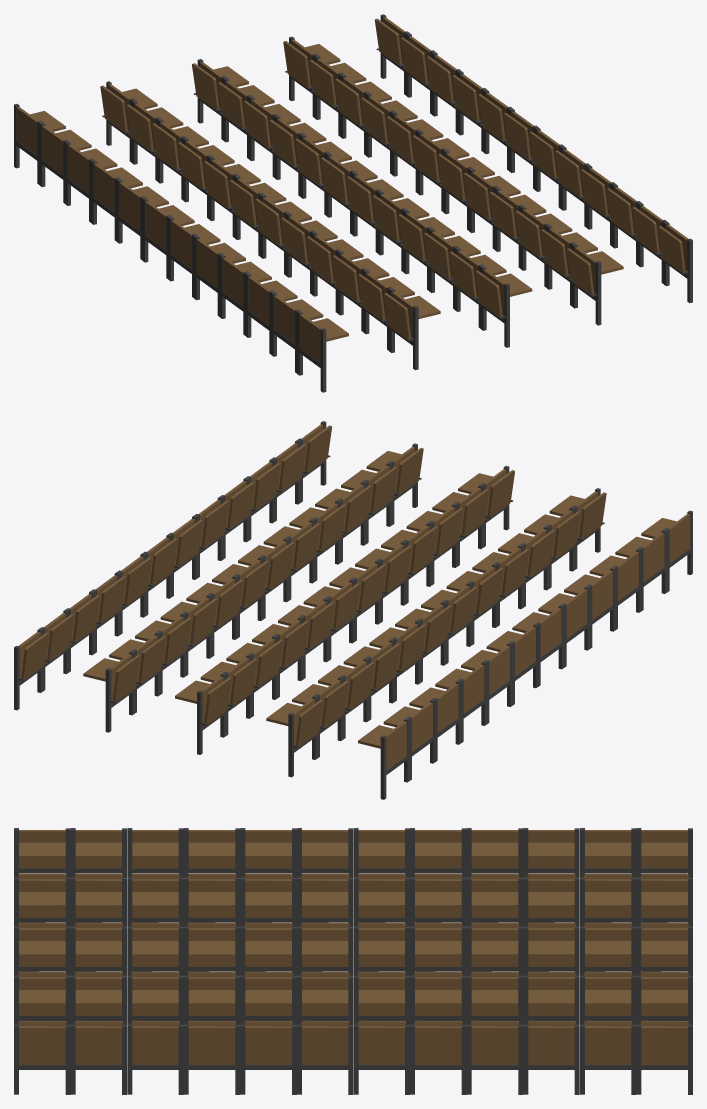
The model's file is File_banchi_M.fbx.
3 views of the same model, one above another, from view 1: azimuth 30°, elevation 25°; view 2: azimuth 150°, elevation 25°; view 3: azimuth 270°, elevation 25° (orthographic). The views are drawn at different scales.
Parts seen in each view (by area): view 1: Fila_joined.001; view 2: Fila_joined.001; view 3: Fila_joined.001.
Part boxes in pixels (x1=…): Fila_joined.001: x1=14, y1=14, x2=692, y2=392; Fila_joined.001: x1=14, y1=421, x2=692, y2=799; Fila_joined.001: x1=14, y1=828, x2=692, y2=1094.
Size of the model in its own units: 1122 by 181 by 1623.
